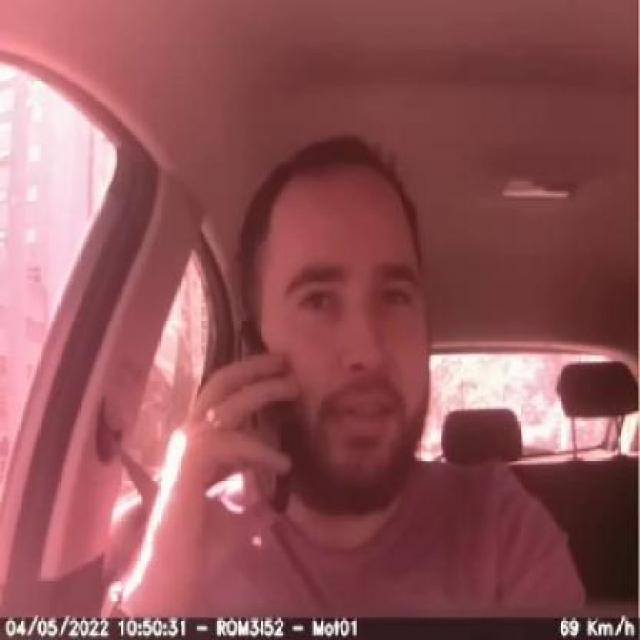using_phone: (132, 291, 320, 527)
